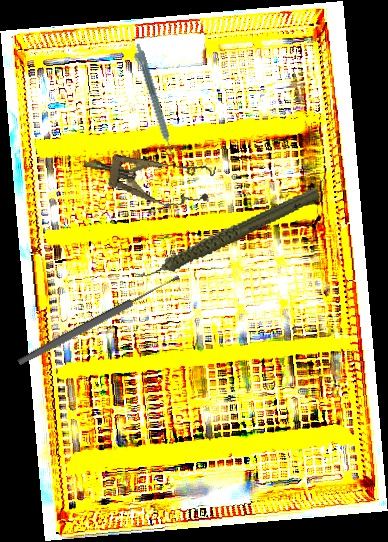Handpiece: (124, 185, 329, 282), (129, 42, 176, 158)
Speculum: (78, 138, 217, 216)
Surgical Spoon: (16, 272, 182, 368)
